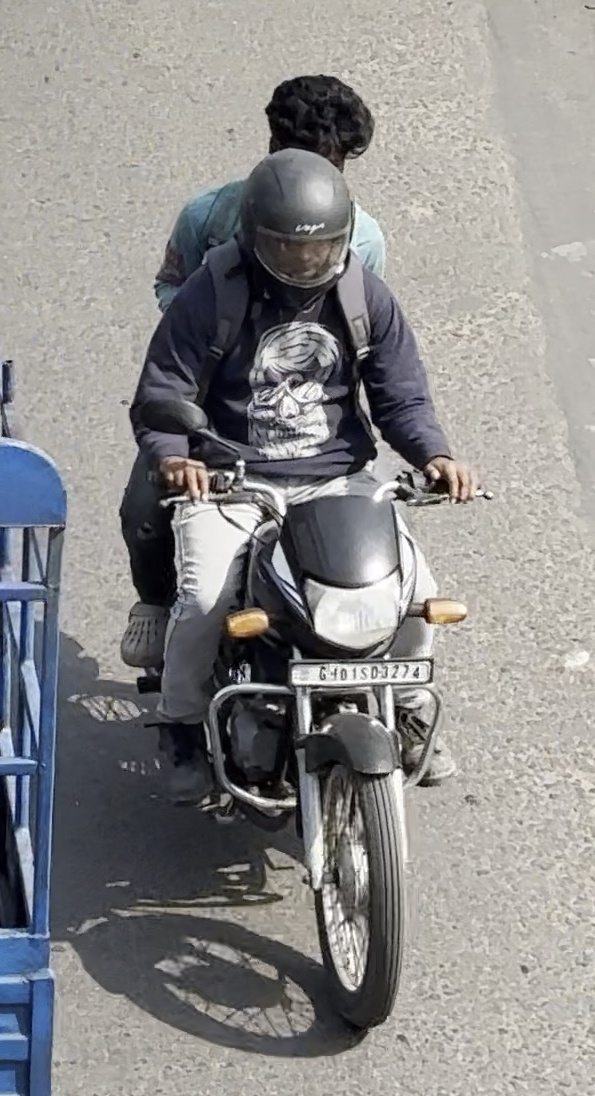BikeWithRider: (102, 62, 500, 1034)
Helmet: (222, 139, 364, 315)
NoHelmet: (249, 68, 385, 159)
